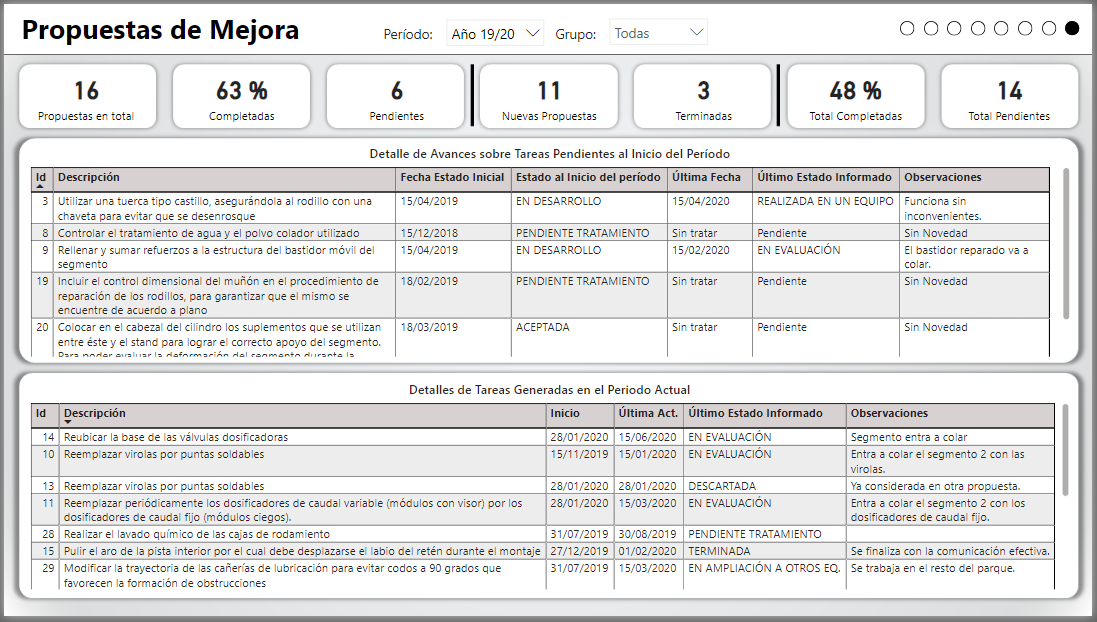

The page's visual inventory and layout, read from the dashboard file:
{"tool":"powerbi","page":{"name":"💡Propuestas de Mejora","canvas":[1280,720],"ordinal":7},"visuals":[{"type":"textbox","box":[15,6,368,47],"z":0},{"type":"card","fields":{"Values":["Medidas._PM Cantidad Total"]},"box":[14.6,71,164.5,75.5],"z":1000},{"type":"slicer","fields":{"Values":["vCalendario.AnioFiscal"]},"box":[510.7,8.5,135.4,49],"z":2000,"group":"g1"},{"type":"card","fields":{"Values":["Medidas.PM KPI Pendientes"]},"box":[380.1,71.1,164.2,75],"z":2000},{"type":"card","fields":{"Values":["Medidas._PM Cantidad Periodo Actual"]},"box":[559.8,71.1,162.9,75],"z":3000},{"type":"card","fields":{"Values":["Medidas._PM Cantidad Terminadas Periodo Actual"]},"box":[740.8,71.1,164.2,75],"z":4000},{"type":"textbox","box":[441.1,24.5,80,32],"z":5000,"group":"g1"},{"type":"card","fields":{"Values":["Medidas._PM % Total Completado"]},"box":[920.6,71.1,164.2,75],"z":5000},{"type":"card","fields":{"Values":["Medidas._PM Porcentaje Inicio año"]},"box":[197.8,71.1,164.2,75],"z":6000},{"type":"tableEx","title":"Detalles de Tareas Generadas en el Periodo Actual","fields":{"Values":["vPropuestasDeMejora.Id","Medidas._PM 26 detalles propuesta","Medidas._PM 26 Fecha inicio propuesta","Medidas._PM 26 Fecha Max","Medidas._PM 26 Estado Final del periodo","Medidas._PM 26 Observacion final"]},"box":[15.8,437.8,1248.5,256.3],"z":7000},{"type":"tableEx","title":"Detalle de Avances sobre Tareas Pendientes al Inicio del Período","fields":{"Values":["vPropuestasDeMejora.Id","Medidas._PM 27 detalles propuesta","Medidas._PM 27 Fecha Max periodo anterior","Medidas._PM 27 Estado Final previo","Medidas._PM 27 Fecha ultima actualizacion periodo actual","Medidas._PM 27 ultimo estado actualizado","Medidas._PM 27 ultima observacion actualizada"]},"box":[15.6,159.8,1248.8,259.9],"z":8000},{"type":"card","fields":{"Values":["Medidas.PM KPI Total PENDIENTES"]},"box":[1101.6,71.1,162.9,75],"z":9000},{"type":"actionButton","box":[1054.5,20,17,17.3],"z":10000},{"type":"actionButton","box":[1248.2,20,16.9,16.9],"z":11000},{"type":"actionButton","box":[1082.2,20,17,17.3],"z":12000},{"type":"slicer","fields":{"Values":["vSegmento.Grupo"]},"box":[702,7,136.5,48.5],"z":13000,"group":"g1"},{"type":"actionButton","box":[1109.9,20,17,17.3],"z":13000},{"type":"actionButton","box":[1137.6,20,17,17.3],"z":14000},{"type":"textbox","box":[643.1,25.2,76.3,31.7],"z":14000,"group":"g1"},{"type":"actionButton","box":[1165.3,20,17,17.3],"z":15000},{"type":"actionButton","box":[1193,20,17,17.3],"z":16000},{"type":"actionButton","box":[1220.7,20,16.9,17.3],"z":17000},{"type":"group","id":"g1","title":"Grupo 1","box":[441.1,7,397.3,50.5],"z":18000}]}

Visuals, with their boxes in screenshot pixels (x1, y1, x2, y2), scaled from the page's 1280x720 canvas onto the 1097x622 screenshot:
textbox: <box>13,5,328,46</box>
card - Medidas._PM Cantidad Total: <box>13,61,153,127</box>
slicer - vCalendario.AnioFiscal: <box>438,7,554,50</box>
card - Medidas.PM KPI Pendientes: <box>326,61,466,126</box>
card - Medidas._PM Cantidad Periodo Actual: <box>480,61,619,126</box>
card - Medidas._PM Cantidad Terminadas Periodo Actual: <box>635,61,776,126</box>
textbox: <box>378,21,447,49</box>
card - Medidas._PM % Total Completado: <box>789,61,930,126</box>
card - Medidas._PM Porcentaje Inicio año: <box>170,61,310,126</box>
"Detalles de Tareas Generadas en el Periodo Actual" tableEx: <box>14,378,1084,600</box>
"Detalle de Avances sobre Tareas Pendientes al Inicio del Período" tableEx: <box>13,138,1084,363</box>
card - Medidas.PM KPI Total PENDIENTES: <box>944,61,1084,126</box>
actionButton: <box>904,17,918,32</box>
actionButton: <box>1070,17,1084,32</box>
actionButton: <box>927,17,942,32</box>
slicer - vSegmento.Grupo: <box>602,6,719,48</box>
actionButton: <box>951,17,966,32</box>
actionButton: <box>975,17,990,32</box>
textbox: <box>551,22,617,49</box>
actionButton: <box>999,17,1013,32</box>
actionButton: <box>1022,17,1037,32</box>
actionButton: <box>1046,17,1061,32</box>
"Grupo 1" group: <box>378,6,719,50</box>
